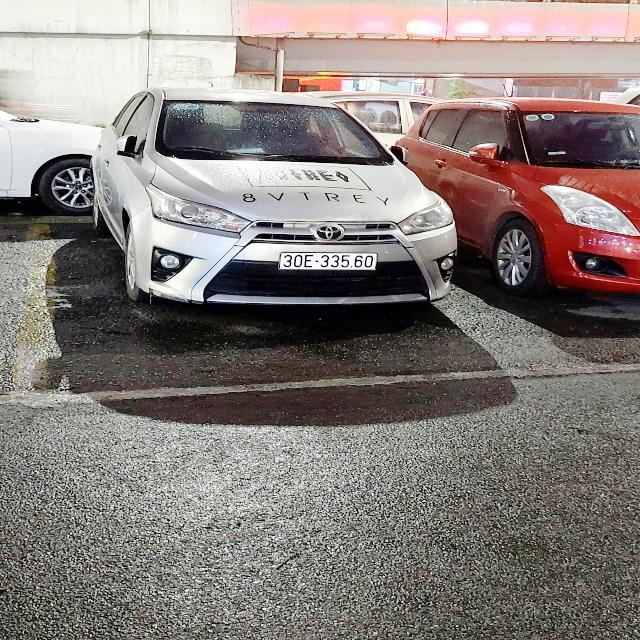license_plate: (277, 250, 383, 274)
